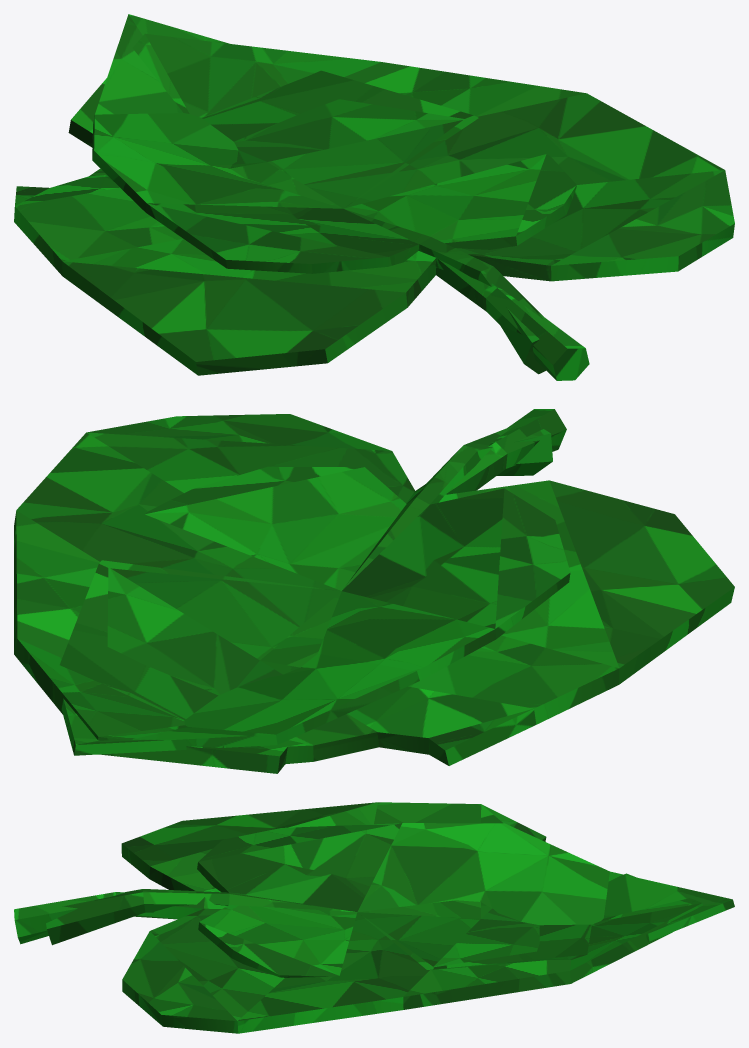
File: Leaves.FBX
3 views of the same model, one above another, from view 1: azimuth 30°, elevation 25°; view 2: azimuth 150°, elevation 25°; view 3: azimuth 270°, elevation 25° (orthographic). The views are drawn at different scales.
Parts seen in each view (by area): view 1: LeafBig, LeafRegular; view 2: LeafBig, LeafRegular; view 3: LeafBig, LeafRegular.
Part boxes in pixels (x1,y1,x2,y2): LeafBig: [14, 33, 734, 380]; LeafRegular: [92, 14, 576, 374]; LeafBig: [14, 409, 734, 773]; LeafRegular: [59, 424, 570, 755]; LeafBig: [14, 802, 702, 1033]; LeafRegular: [46, 823, 734, 977].
Bounding box in the file's own units: 104 × 12.6 × 137.
